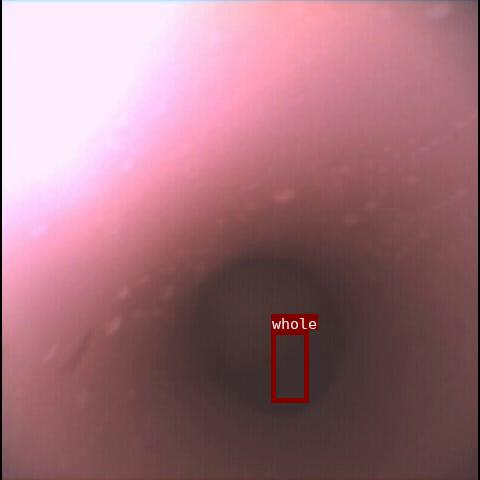whole: (271, 330, 308, 402)
